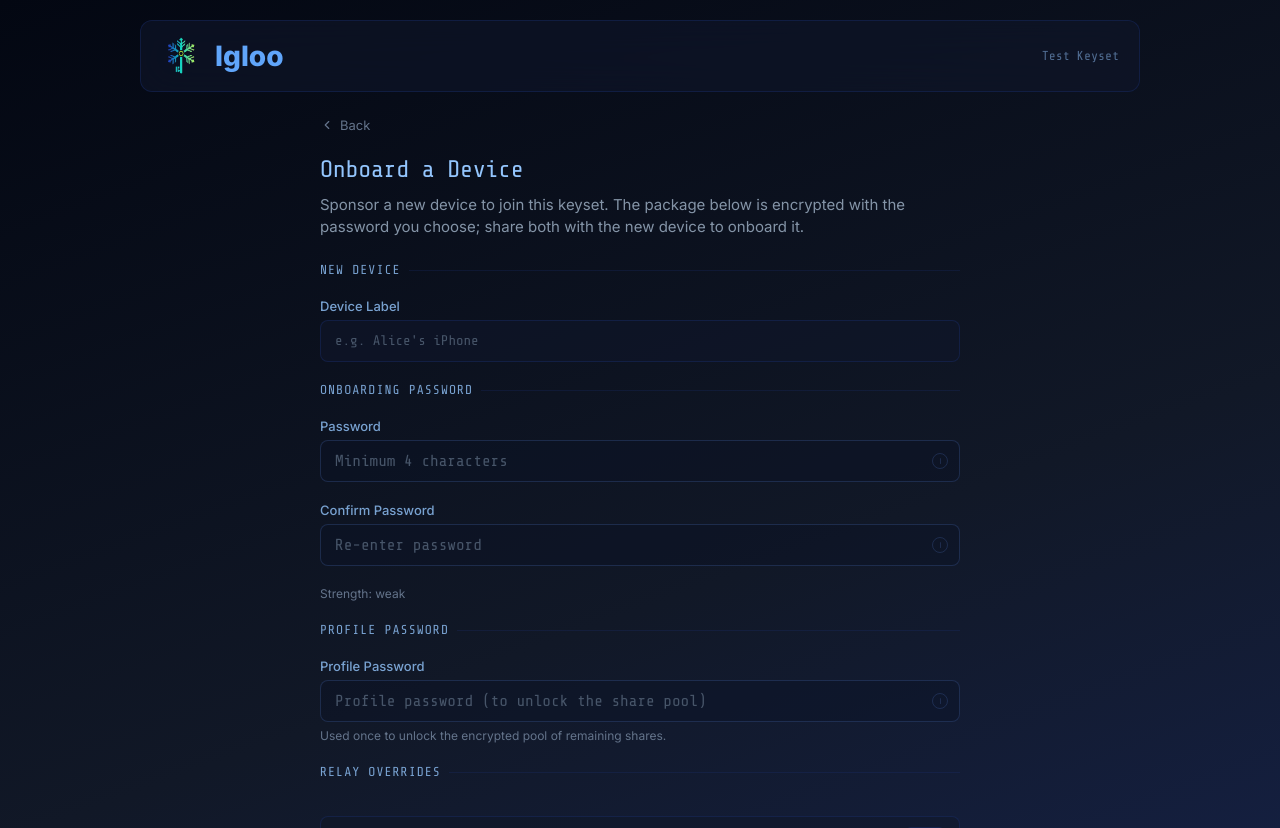
it: OnboardSponsorConfigScreen — VAL-ONBOARD-003 / 019 / 021 / 024 › rejects password / confirm mismatch inline
Type "strong-pass-1" into the password field with test id "onboard-sponsor-password-input".
click(640, 461); type("strong-pass-1")  # box [320,440,960,482]
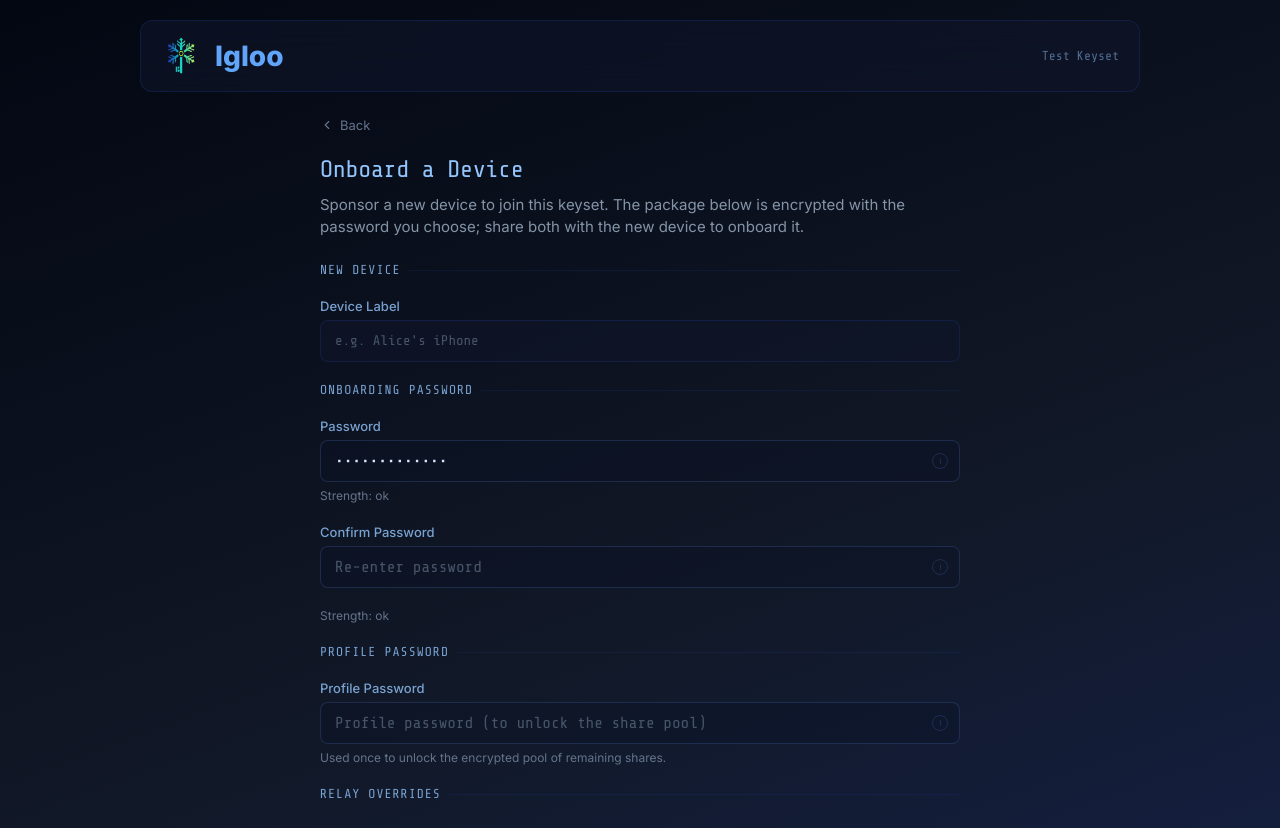
Type "other-pass-1" into the password field with test id "onboard-sponsor-confirm-input".
click(640, 567); type("other-pass-1")  # box [320,546,960,588]
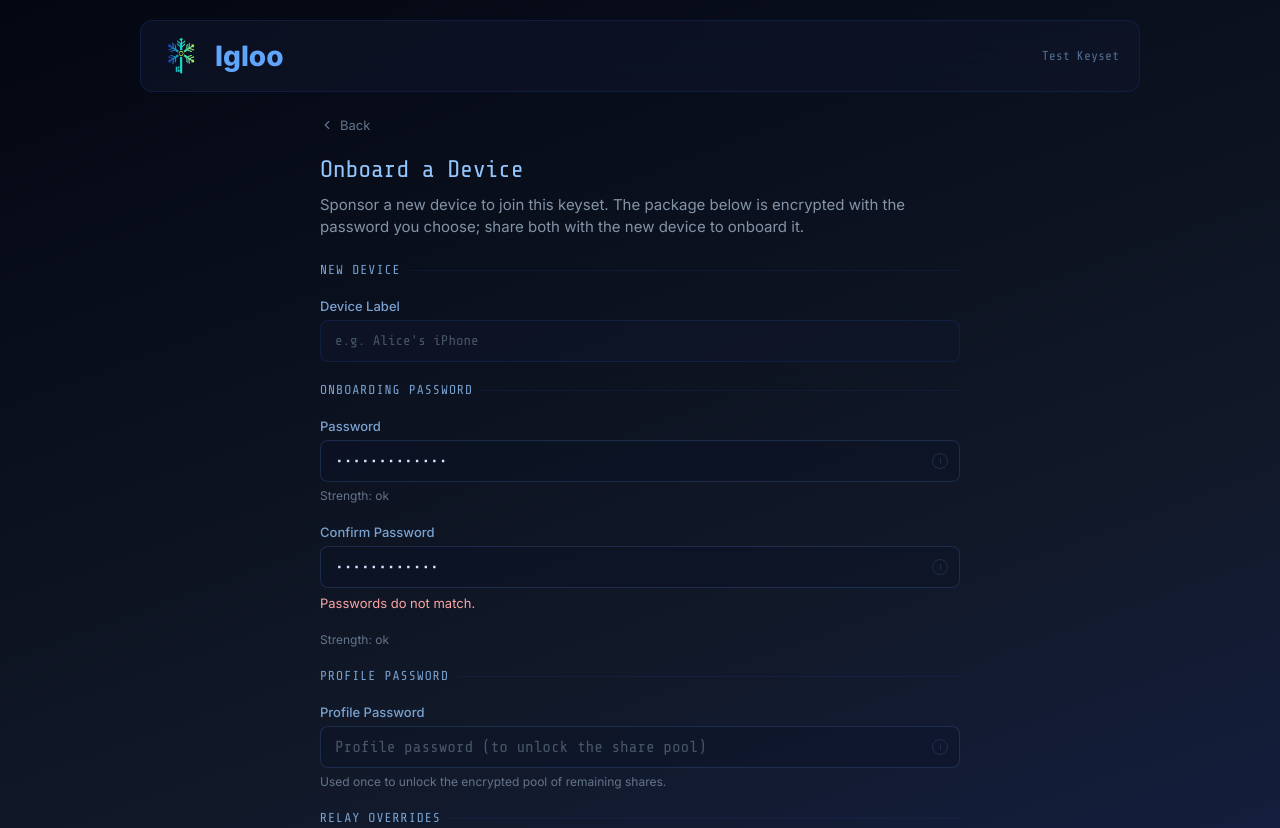
Check: the text "Passwords do not match." is shown, box [320,595,475,611]
